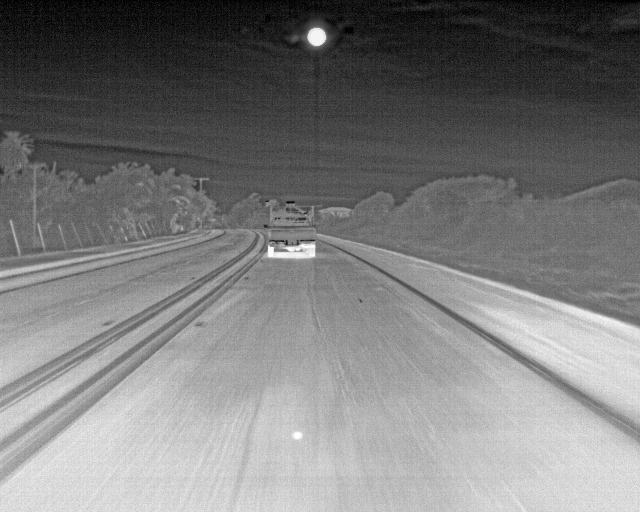vehicle: (262, 199, 319, 261)
